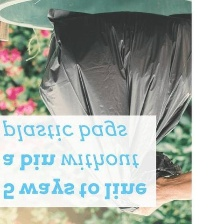plastic_bag: (36, 5, 219, 217)
